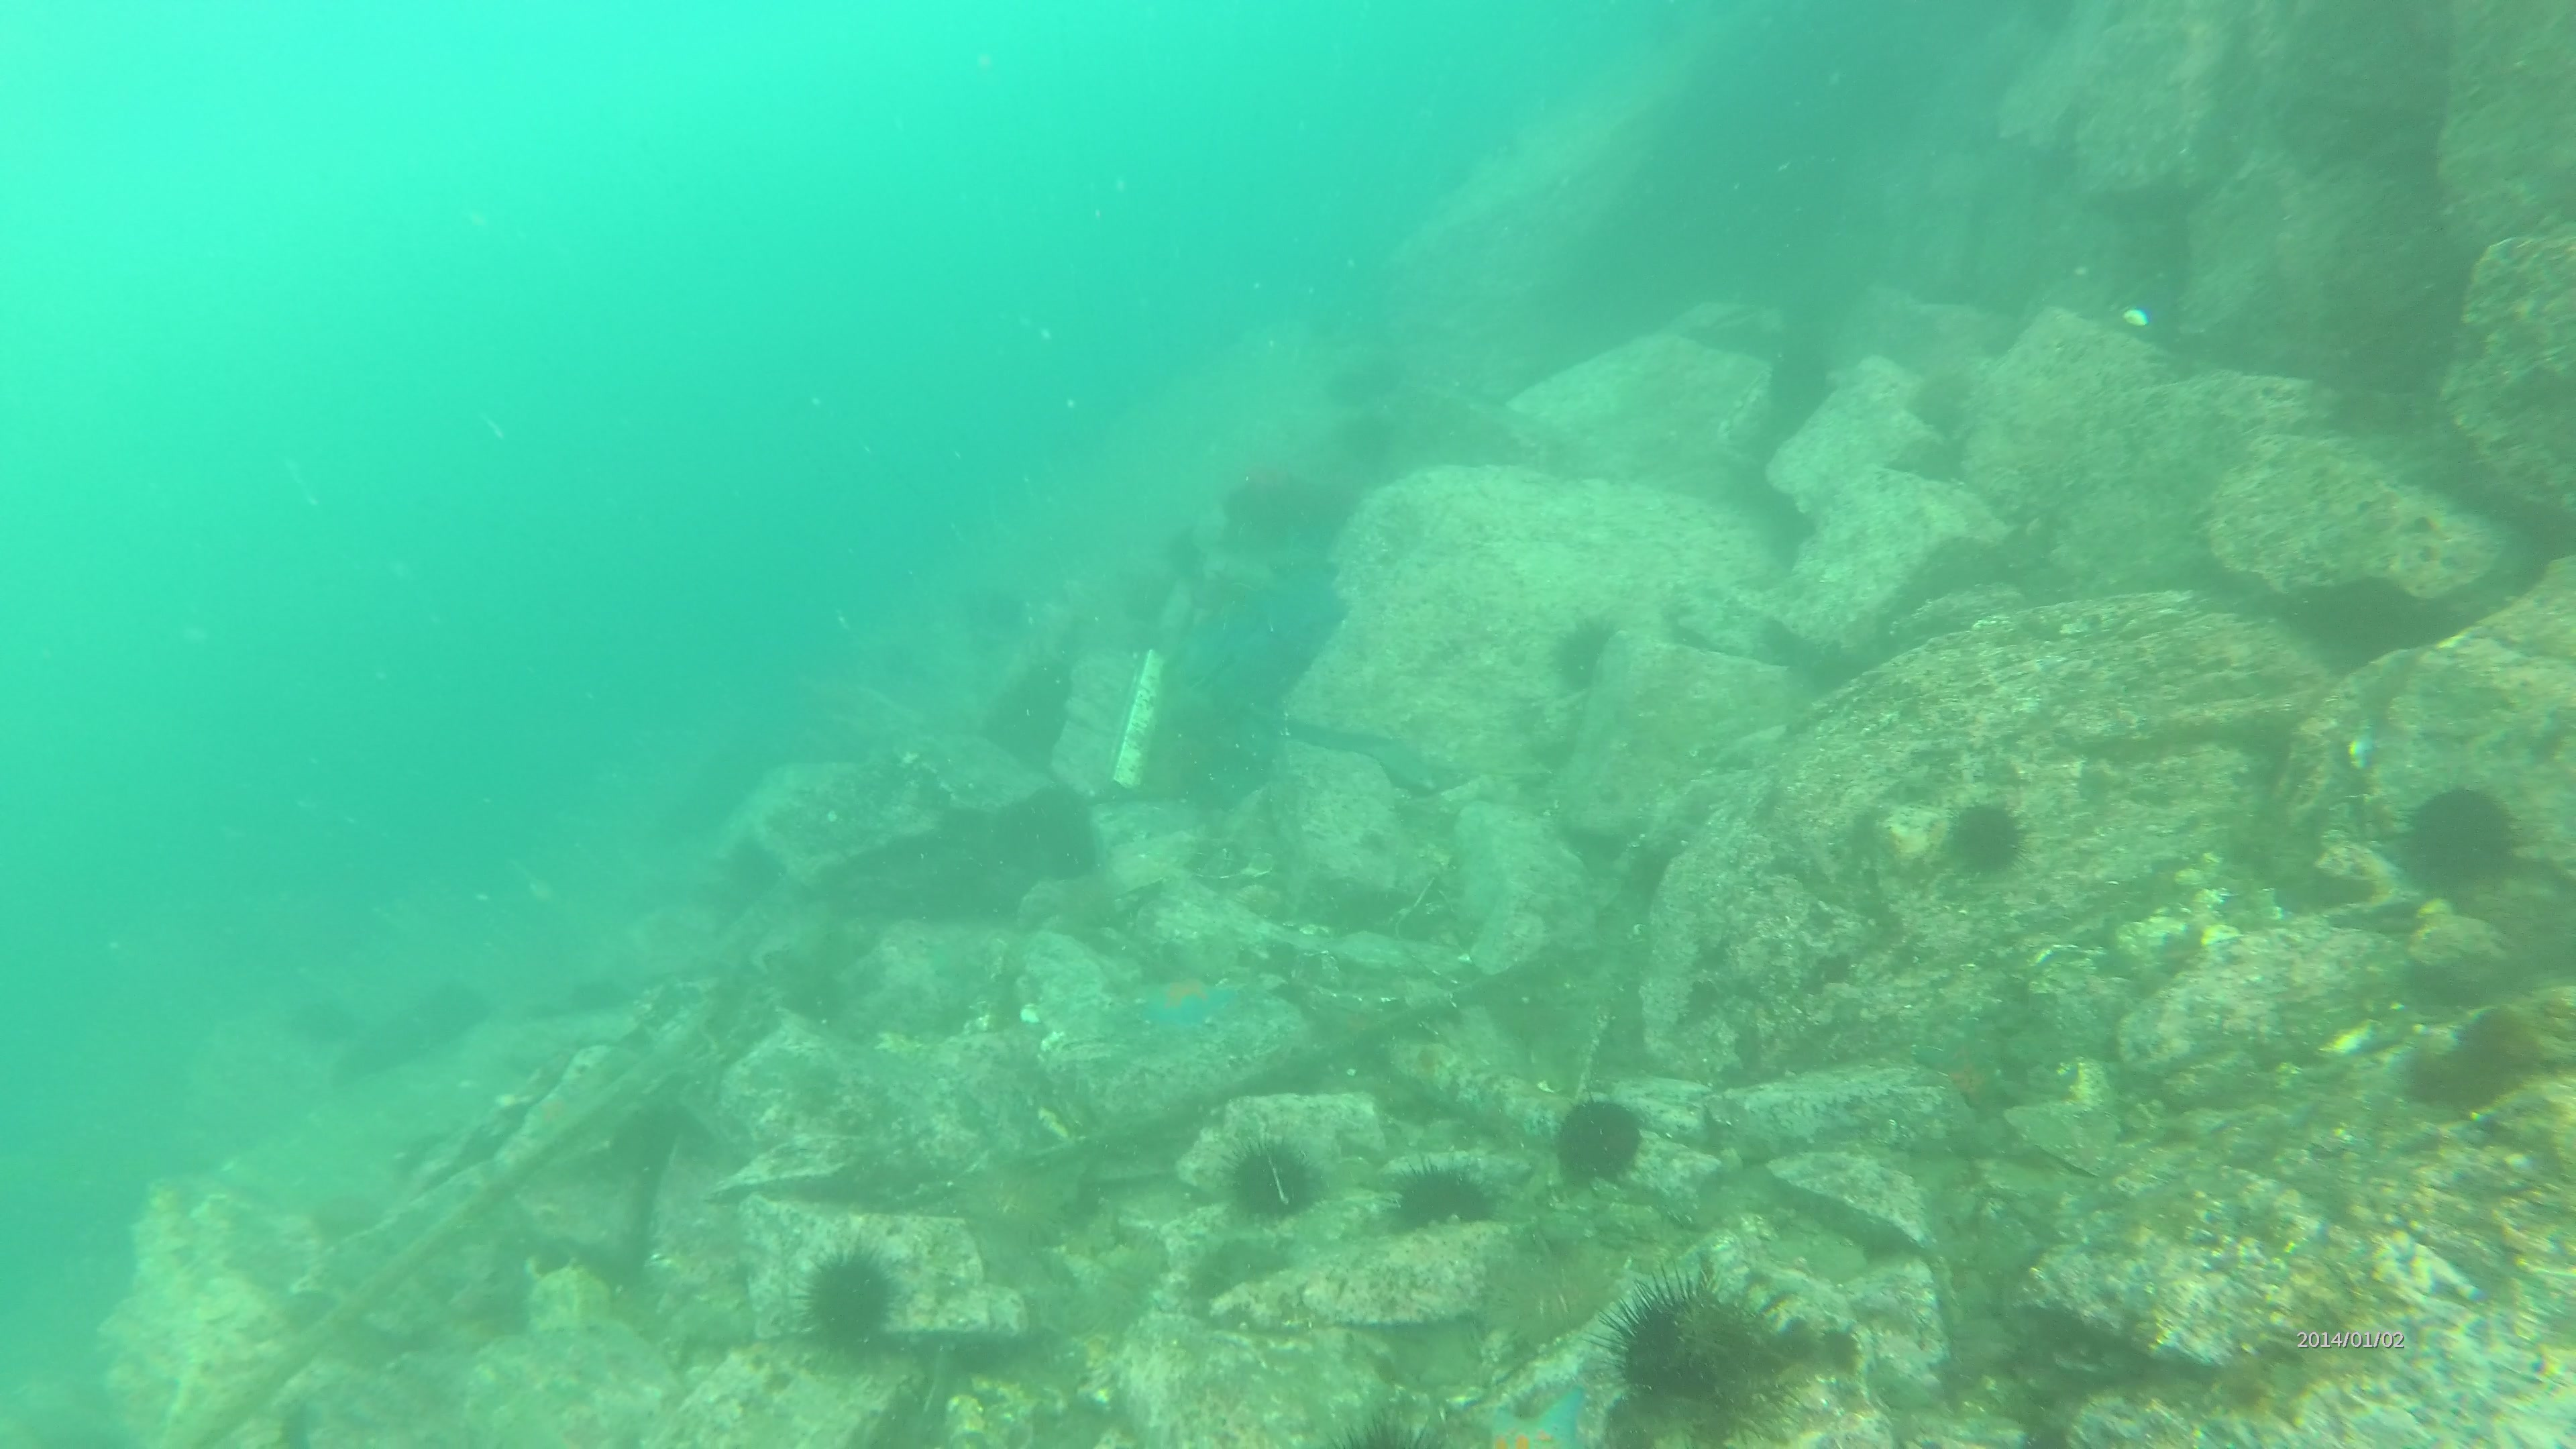echinus: (1603, 1281, 1743, 1396), (2399, 786, 2523, 895), (796, 1249, 902, 1353), (1224, 1136, 1320, 1228), (1552, 1097, 1649, 1185), (1943, 796, 2035, 883), (1396, 1162, 1495, 1237), (1553, 617, 1621, 690), (787, 964, 849, 1028)
starfish: (1122, 971, 1238, 1047), (1477, 1385, 1599, 1449)
